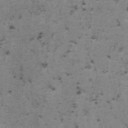oxide scale of temperature system: (8, 0, 128, 128), (0, 24, 16, 56), (68, 0, 88, 16)
